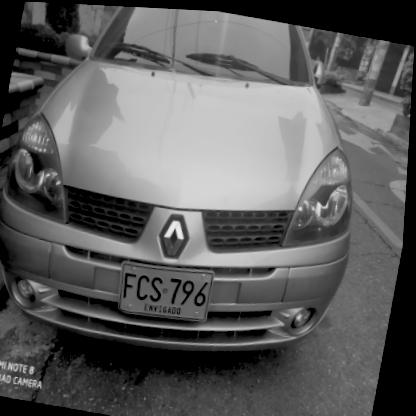placa: (110, 248, 222, 328)
